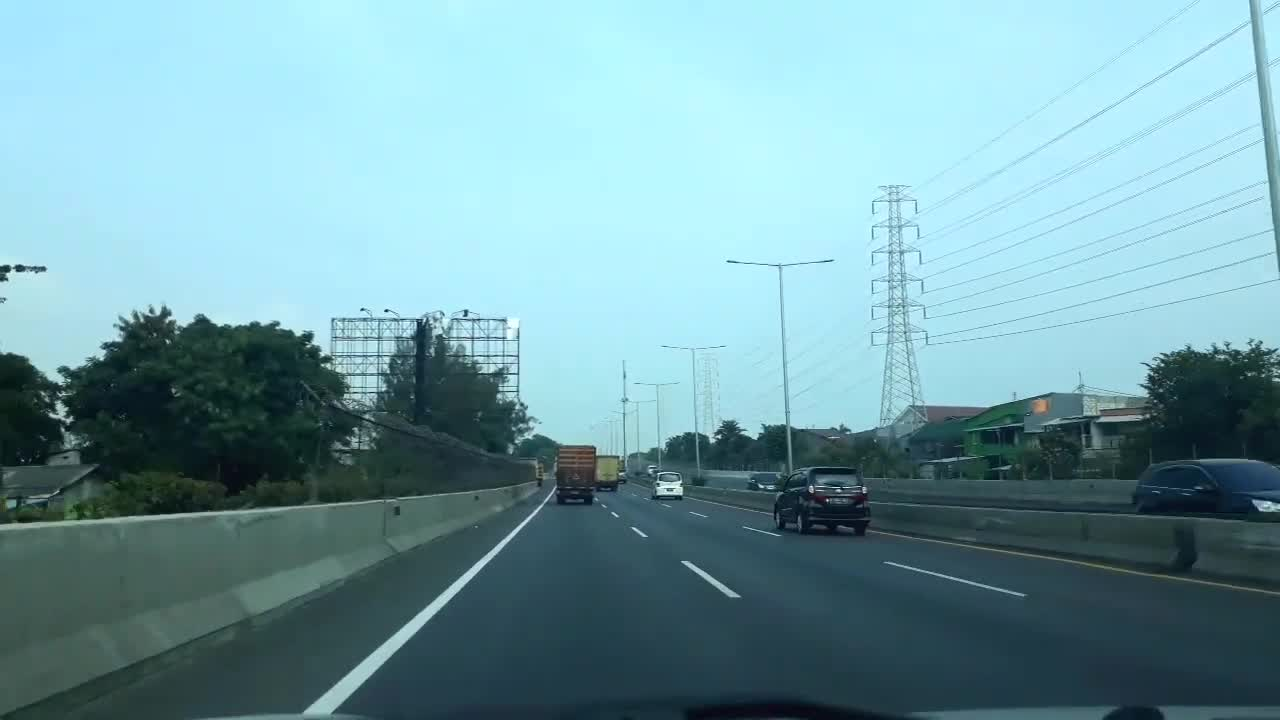plate_positive: (829, 497, 849, 504), (570, 490, 579, 494), (667, 488, 673, 492)
